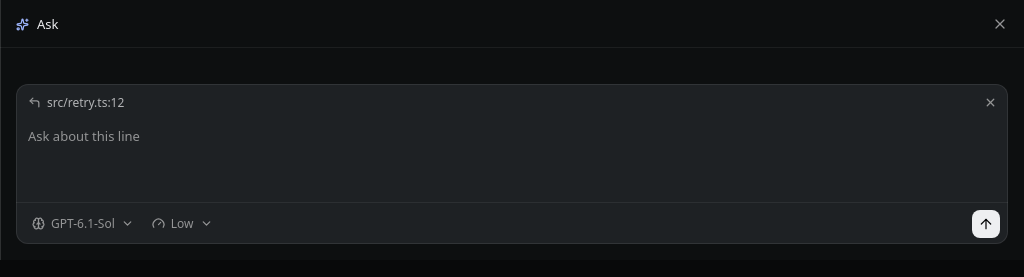
Test: AskPanel › can ask about the whole task instead of a subject
Check: the text box labelled "Ask about this line" is shown, box [16,114,1008,202]
Click the button named "Ask about the whole task instead" at (990, 102), box [978,90,1002,114]
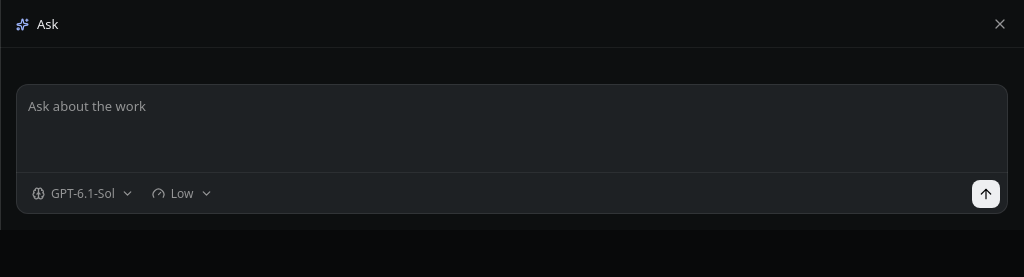
Check: the text box labelled "Ask about the work" is shown, box [16,84,1008,172]
